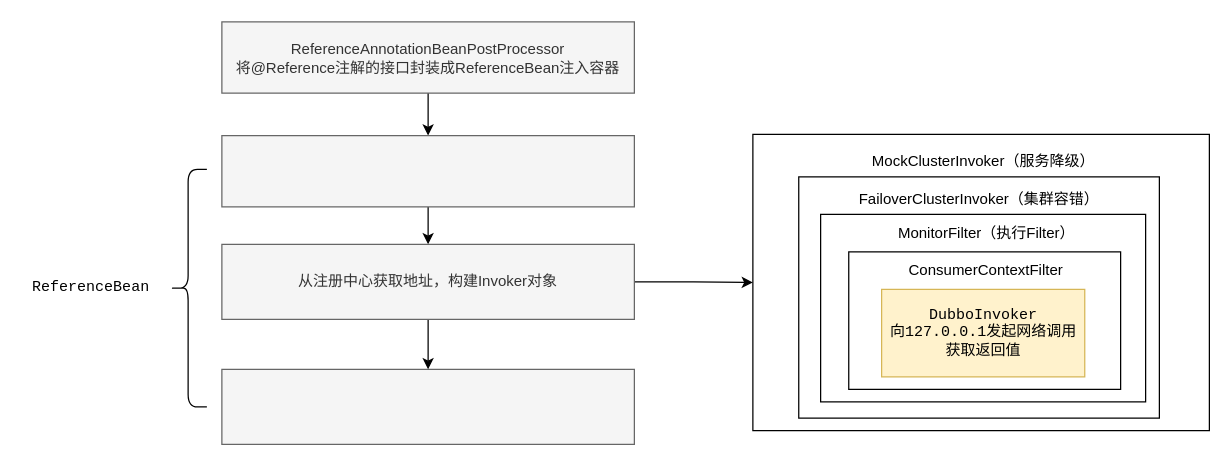
Some shapes in this 1231 by 466 pixel diagram are drawn without their labels. Here are the shapes that lost their labels. From the top down, the centre of each, then its label:
At [427,170]: "ReferenceBean#getObject 被其他对象注入时开始服务引入".
At [427,406]: "通过Invoker对象构建动态代理类，赋值给接口 调用的逻辑通过Invoker实现".
